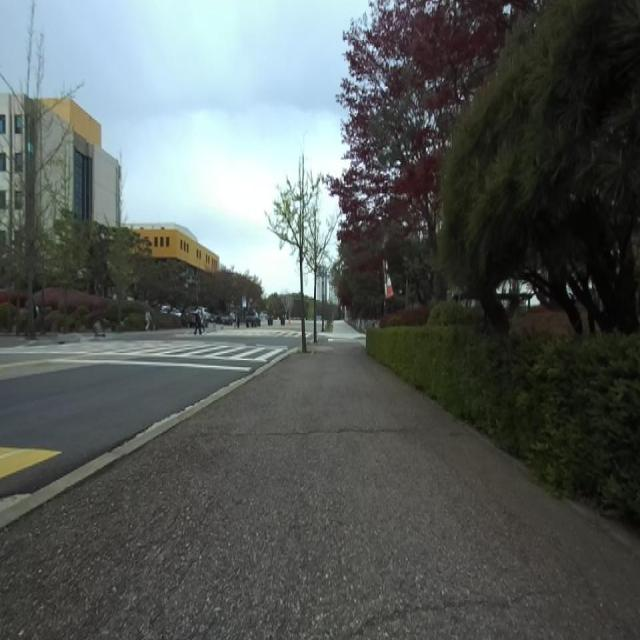sidewalk: (0, 334, 640, 639), (0, 347, 299, 528)
